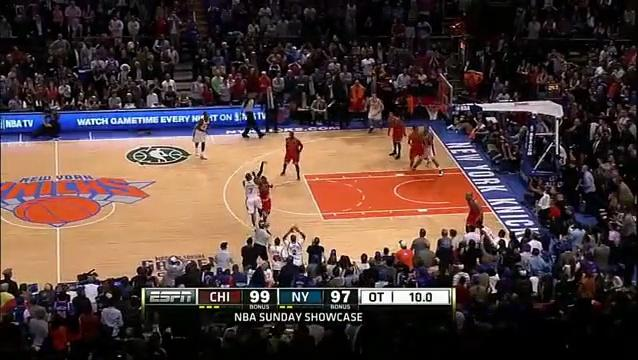Backboard: (436, 74, 453, 121)
Basket: (425, 103, 442, 121)
Person: (243, 158, 267, 230), (280, 127, 303, 184), (422, 124, 446, 178), (405, 124, 430, 174), (190, 112, 210, 163), (367, 92, 388, 137), (389, 113, 408, 162), (462, 190, 482, 236), (260, 176, 274, 225), (476, 220, 495, 239)
Referee: (242, 91, 264, 142), (250, 211, 271, 256), (535, 183, 553, 231)
Shot Clock: (456, 39, 469, 63), (545, 83, 562, 99)
